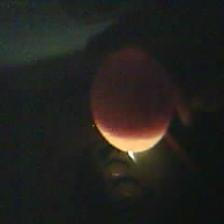fertile: (89, 41, 175, 157)
